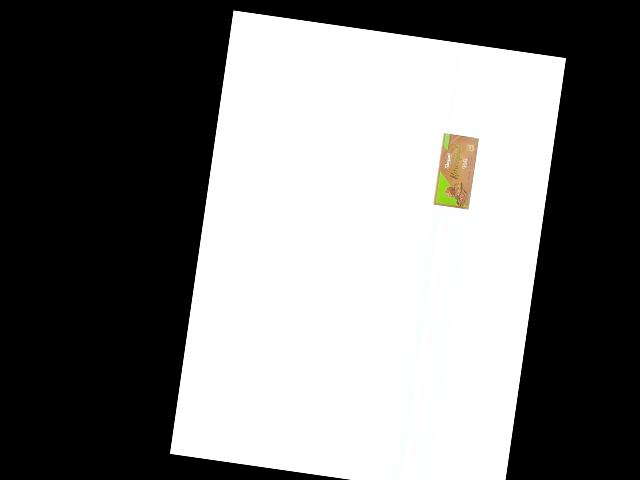chocolate: (430, 130, 480, 210)
